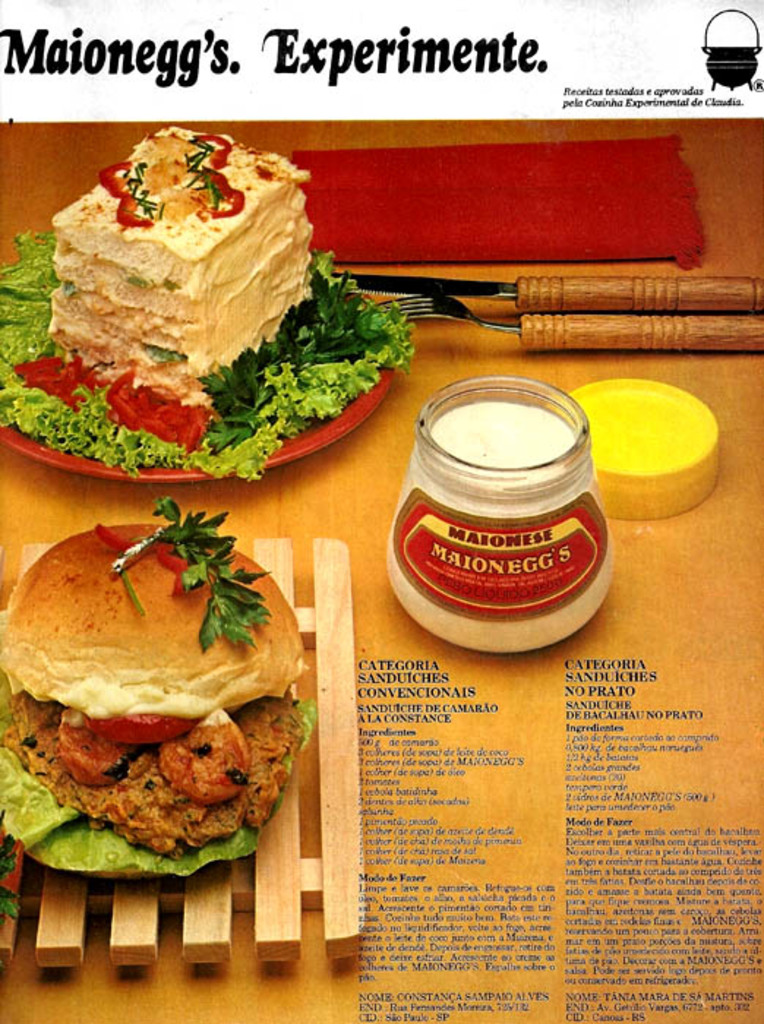Hamburger: (0, 497, 320, 879)
